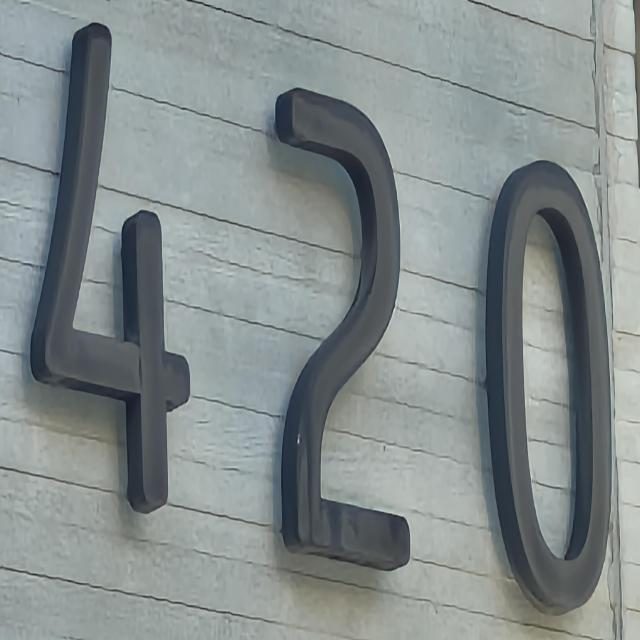character: (39, 14, 196, 518), (282, 79, 417, 578), (494, 157, 616, 624)
